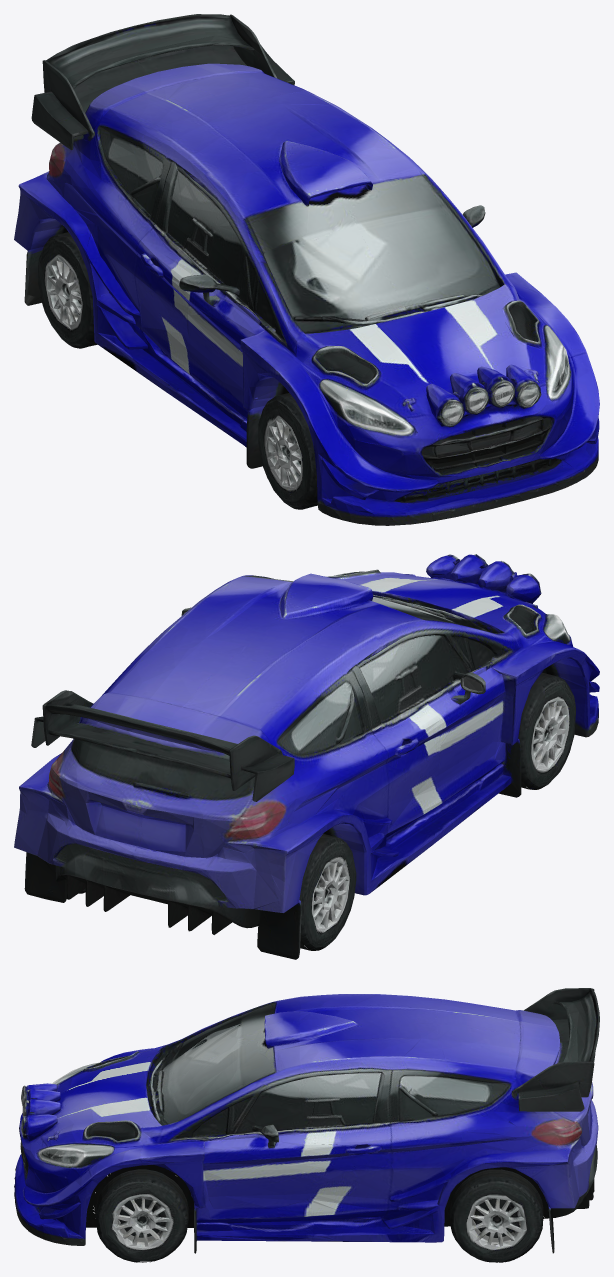
File: sturmfalke.glb
3 renders of one model, top to bottom at view 1: azimuth 30°, elevation 25°; view 2: azimuth 150°, elevation 25°; view 3: azimuth 270°, elevation 25°, orthographic. The views are drawn at different scales.
Parts seen in each view (by area): view 1: koerper, rad_vr, rad_hr; view 2: koerper, rad_vr, rad_hr; view 3: koerper, rad_vl, rad_hl.
Boxes of the visible parts, x1,y1,x2,y2 form: koerper: [14, 14, 599, 525]; rad_vr: [258, 393, 317, 509]; rad_hr: [38, 232, 97, 348]; koerper: [14, 554, 599, 959]; rad_vr: [518, 672, 575, 789]; rad_hr: [299, 834, 356, 950]; koerper: [14, 988, 599, 1262]; rad_vl: [93, 1165, 190, 1261]; rad_hl: [446, 1167, 545, 1262].
Size of the model in its own units: 1.98 by 1.5 by 4.1.
Materials: 1 (1 with a texture image).
